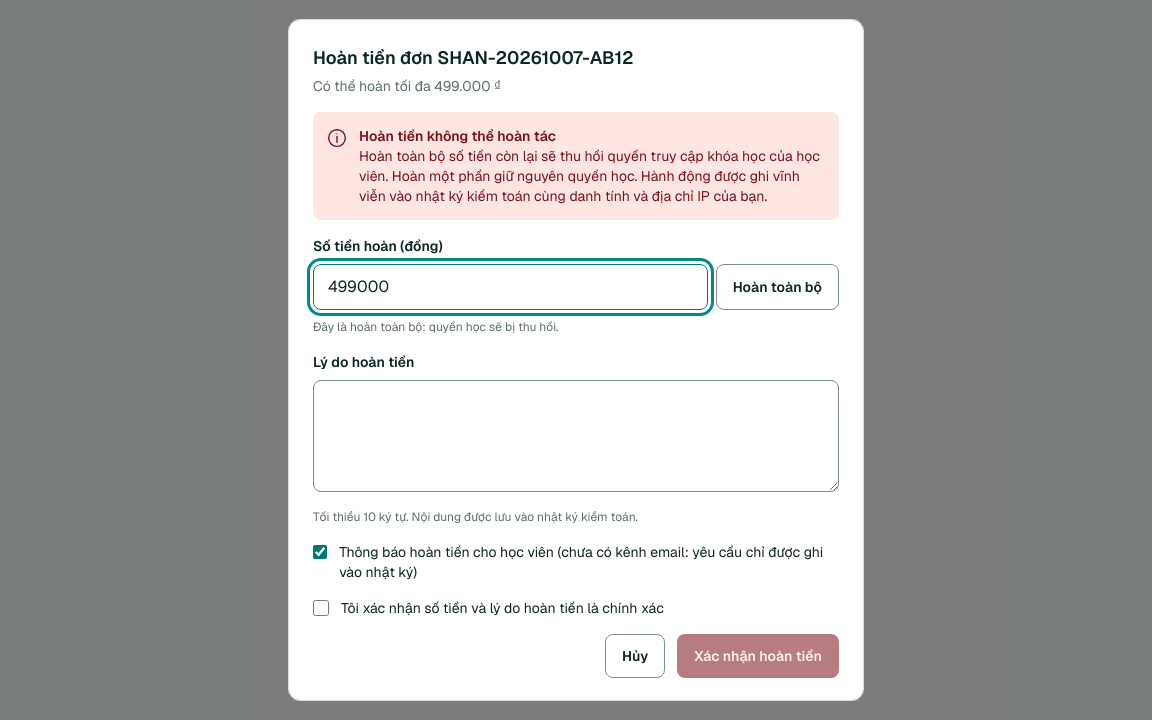
it: RefundModal › starts at the refundable amount and stays locked until justified and confirmed
expect the field labelled "Số tiền hoàn (đồng)" holds "499000": met, box x1=313 y1=264 x2=708 y2=310
expect the checkbox labelled "Thông báo hoàn tiền cho học viên" is checked: met, box x1=313 y1=544 x2=327 y2=560
In the text box labelled "Lý do hoàn tiền": {"x": 576, "y": 436} x1=313 y1=380 x2=839 y2=492, type "Học viên yêu cầu hoàn tiền"
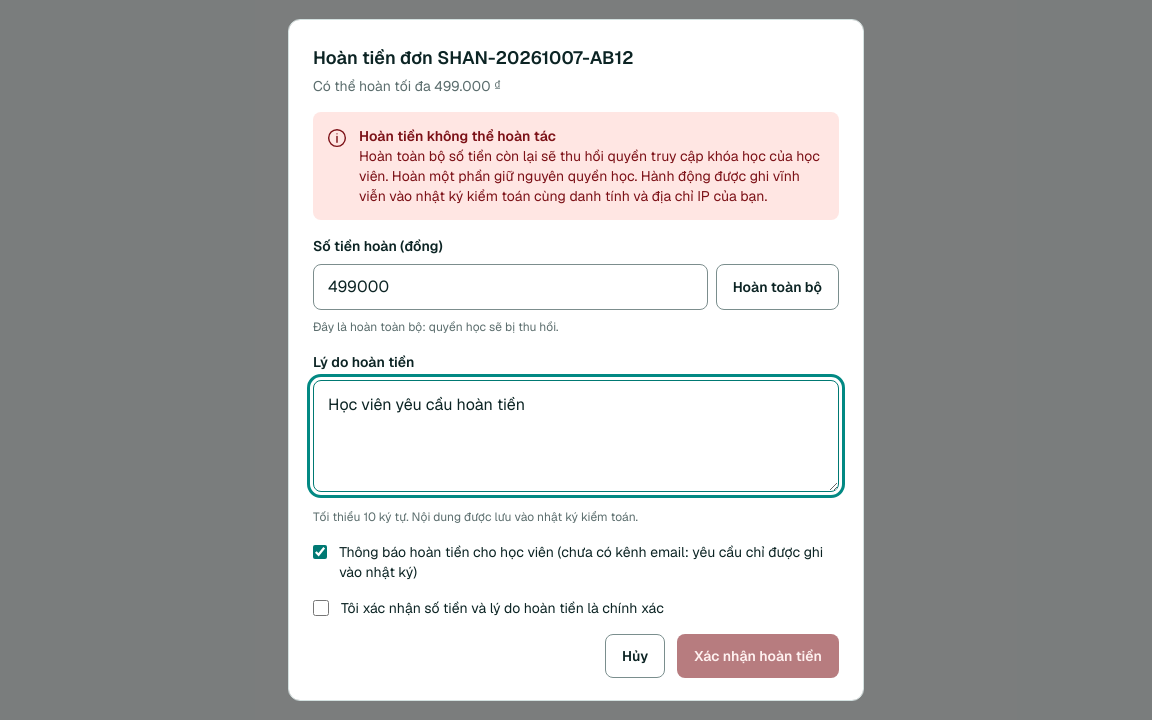
expect the button "Xác nhận hoàn tiền" is disabled: met, box x1=677 y1=634 x2=839 y2=678
Click the checkbox labelled "Tôi xác nhận số tiền và lý do hoàn tiền là chính xác": {"x": 321, "y": 608} x1=313 y1=600 x2=329 y2=616
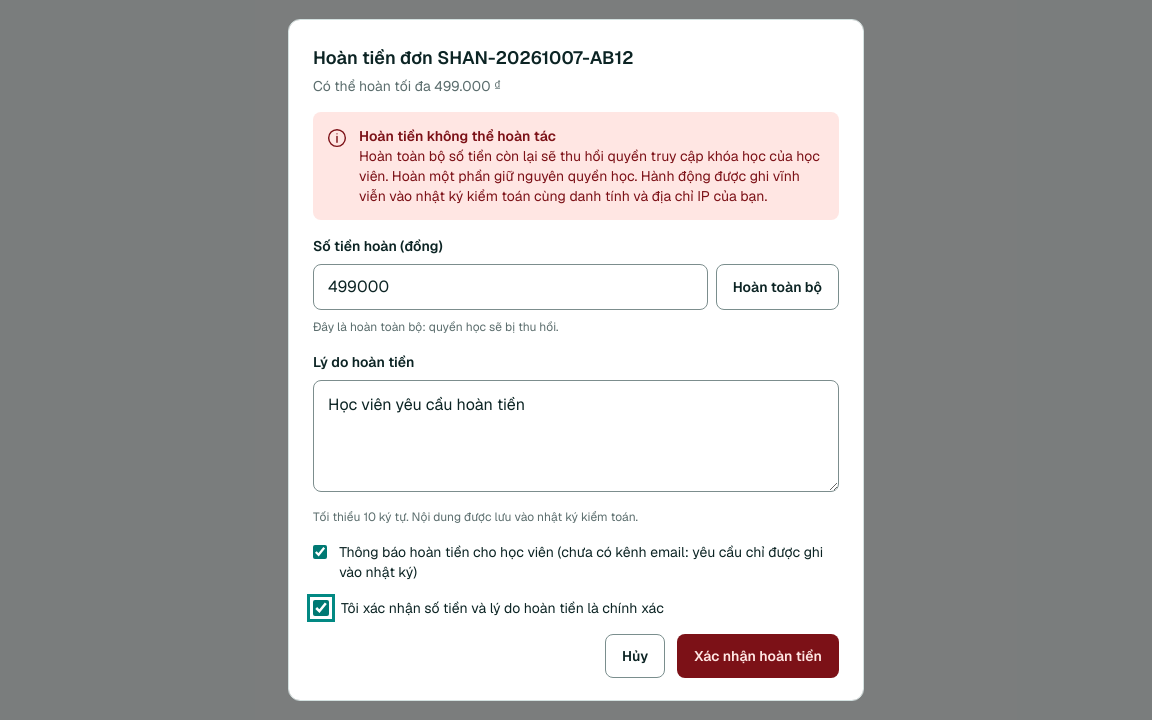
expect the button "Xác nhận hoàn tiền" is enabled: met, box x1=677 y1=634 x2=839 y2=678
